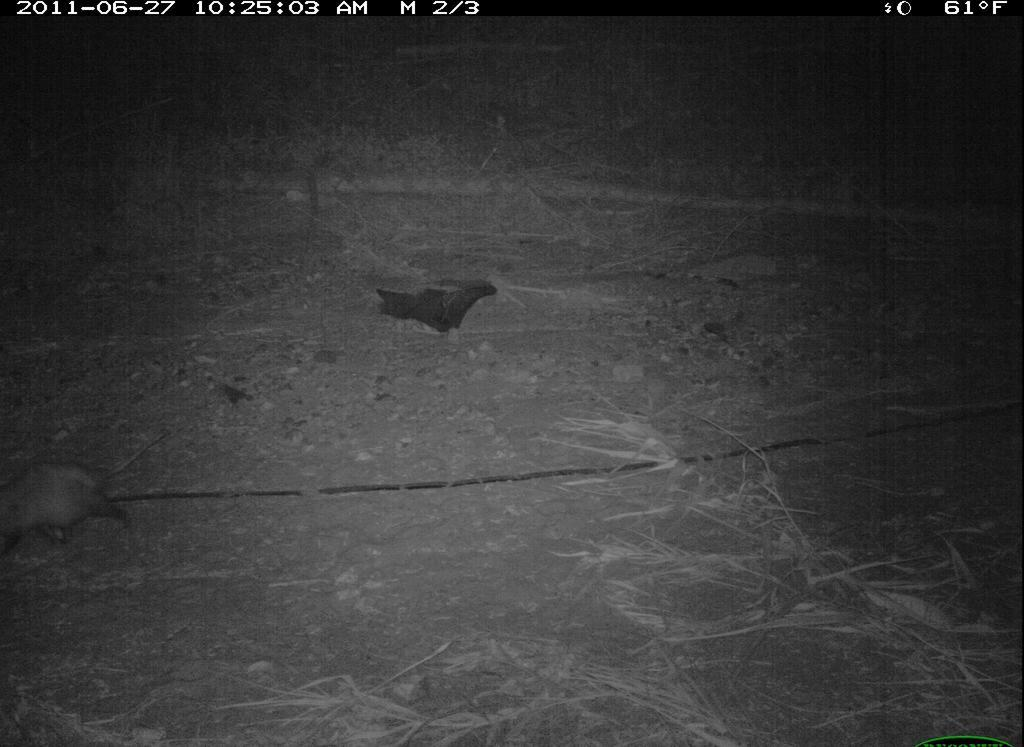opossum: (2, 434, 167, 552)
